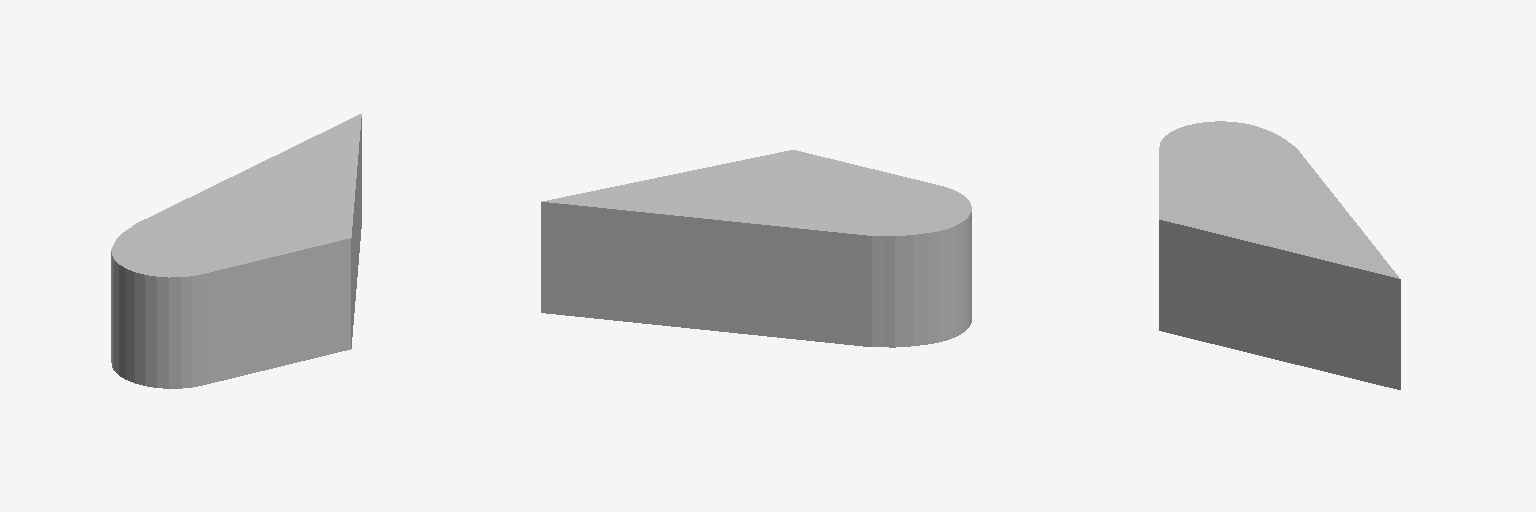
Rendered from paddlebumper2.obj.
3 renders of one model, left to right at view 1: azimuth 30°, elevation 25°; view 2: azimuth 150°, elevation 25°; view 3: azimuth 270°, elevation 25°, orthographic.
Parts seen in each view (by area): view 1: Bumper_Cylinder.001; view 2: Bumper_Cylinder.001; view 3: Bumper_Cylinder.001.
Boxes of the visible parts, x1,y1,x2,y2 form: Bumper_Cylinder.001: [111, 114, 361, 388]; Bumper_Cylinder.001: [541, 150, 971, 347]; Bumper_Cylinder.001: [1159, 121, 1400, 389].
Size of the model in its own units: 6.25 by 2.08 by 3.93.